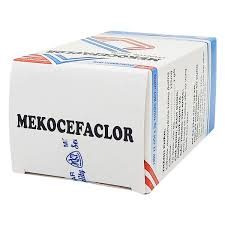Mekocefaclor: (17, 110, 135, 146)
